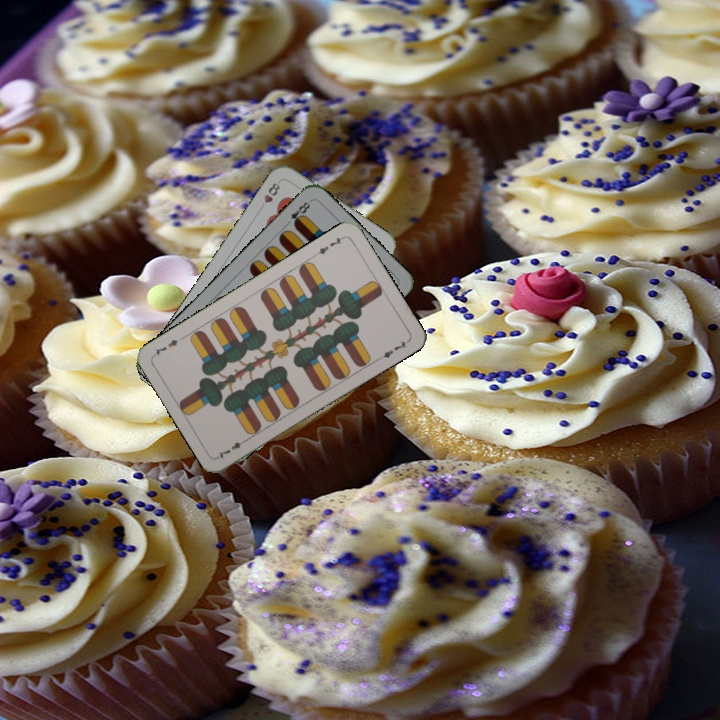E7: (310, 232, 347, 259), (214, 434, 251, 461)
E8: (281, 197, 314, 229)
H8: (260, 178, 283, 206)
